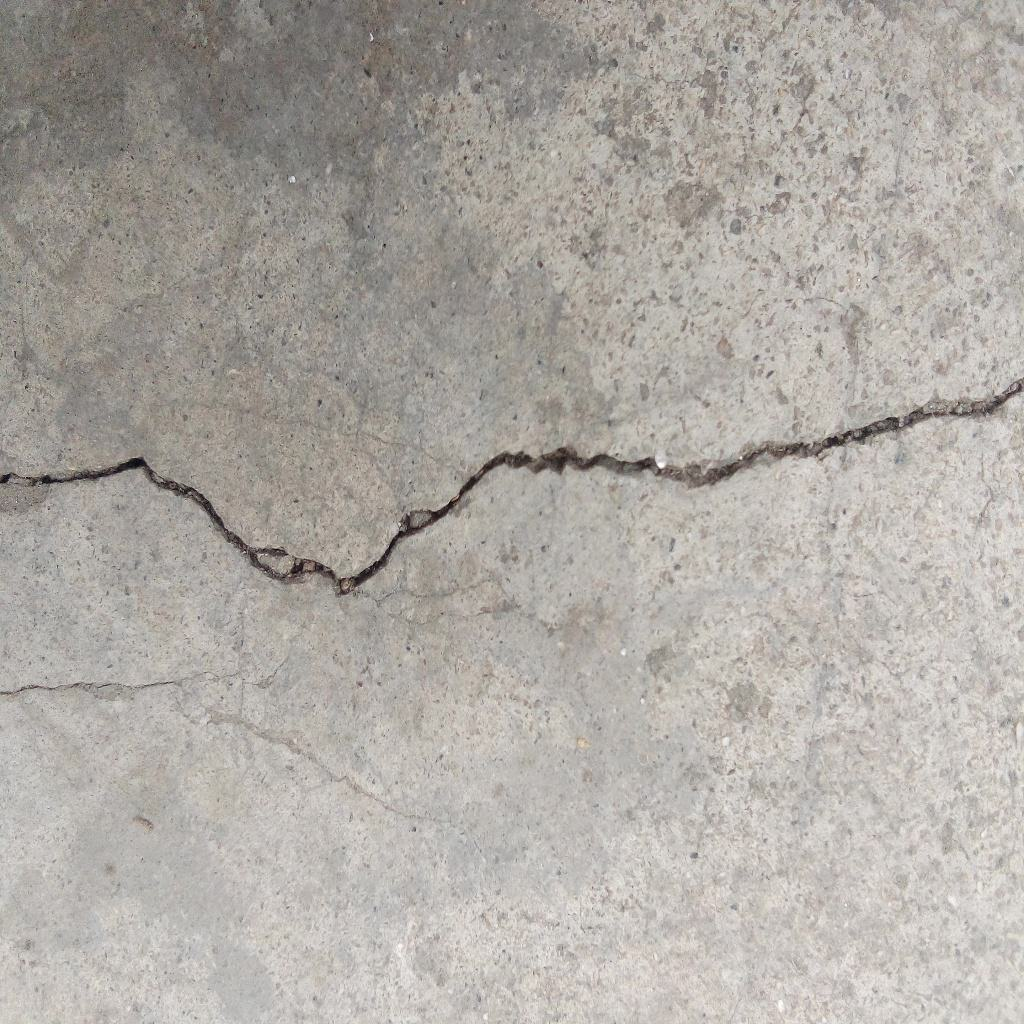Crack: (1, 382, 1024, 598)
